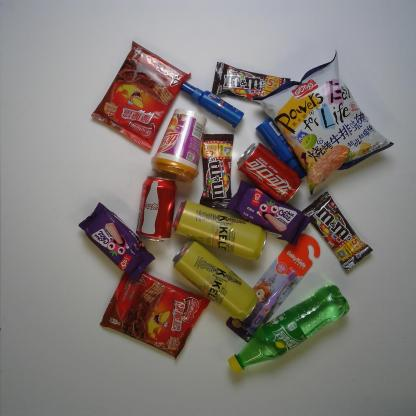Alcohol: (170, 238, 261, 323), (172, 198, 272, 262)
Chocolate: (304, 191, 376, 277), (209, 60, 294, 111), (198, 128, 237, 213)
Dessert: (92, 266, 213, 363), (90, 41, 192, 154), (225, 178, 313, 249), (78, 201, 156, 281)
Drink: (224, 284, 353, 379), (234, 142, 305, 203), (128, 168, 174, 246)
Instant Drink: (151, 103, 207, 179)
Personal Hygiene: (227, 232, 322, 342), (174, 79, 250, 132), (254, 116, 310, 181)
Puffed Food: (252, 50, 397, 190)
